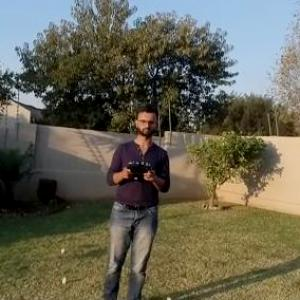follow: (100, 100, 176, 299)
